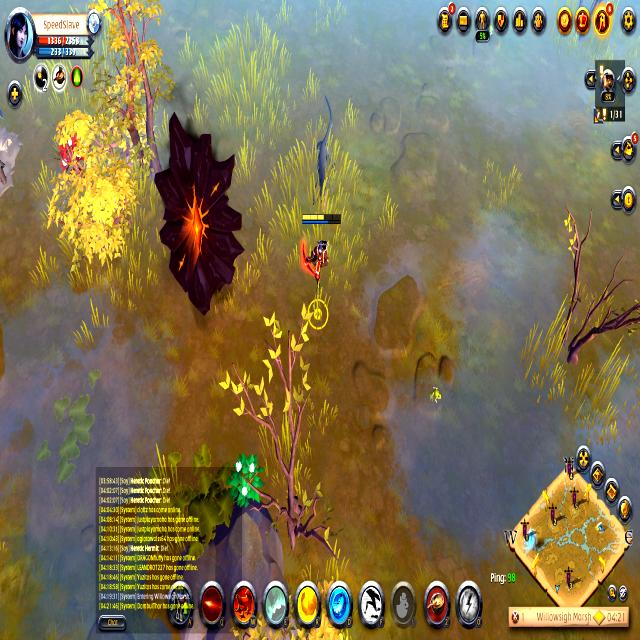hide: (220, 456, 272, 516), (52, 128, 95, 176)
ore: (307, 86, 338, 226)
red: (296, 208, 346, 290)
